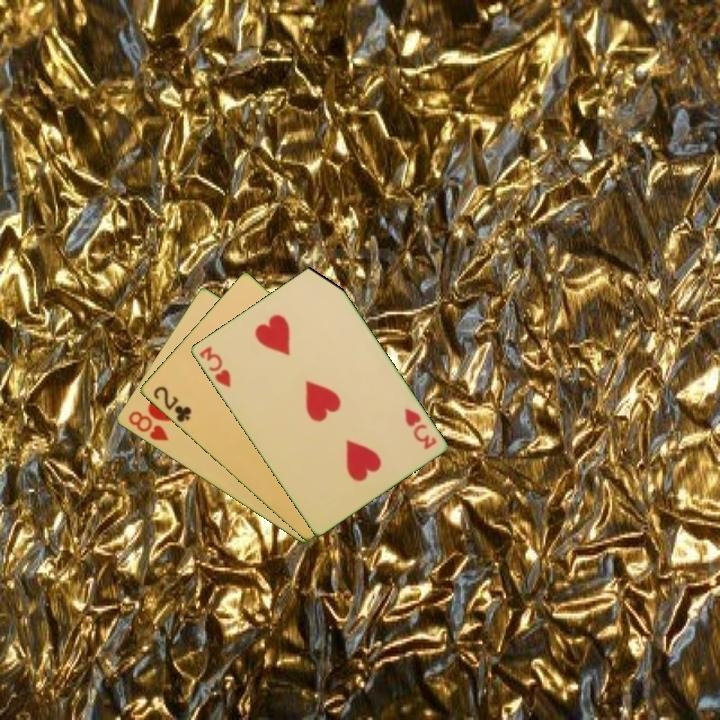2c: (149, 382, 194, 425)
3h: (195, 343, 234, 391), (400, 404, 439, 452)
8h: (124, 407, 171, 444)
